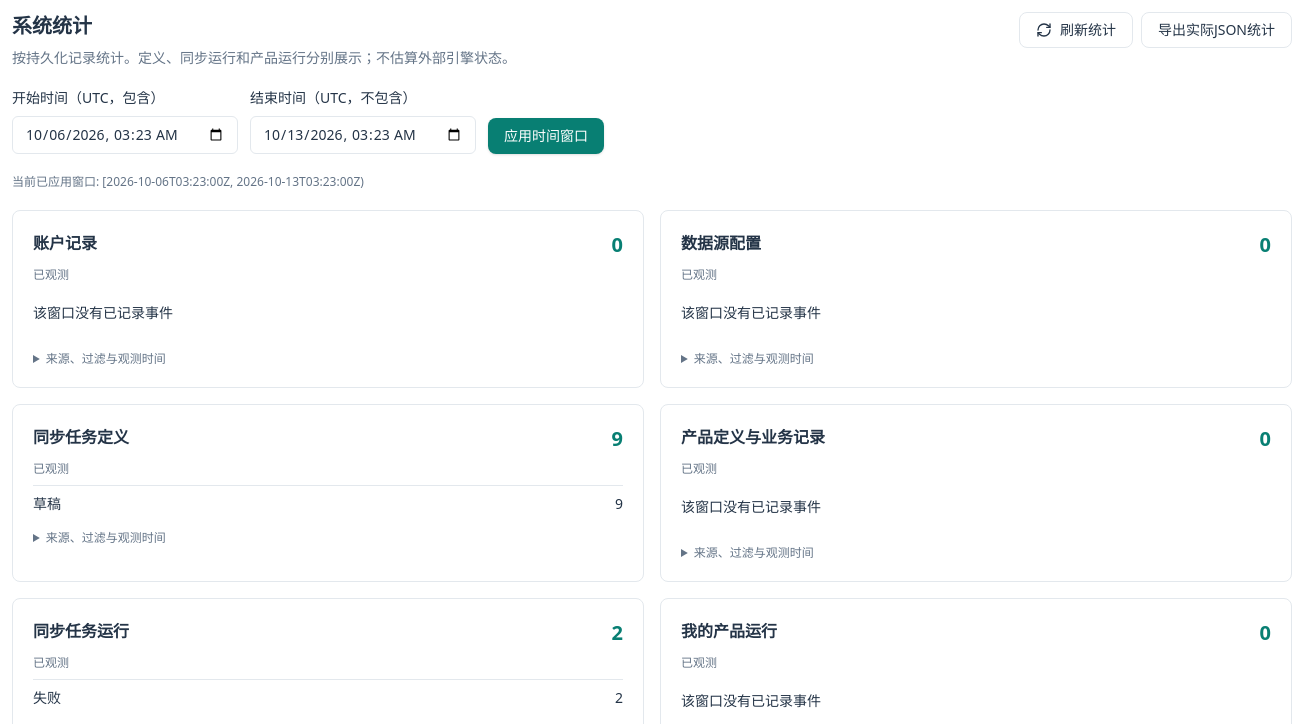
Test case: Persisted statistics and observed scope › will not export stale cached counts after the fresh export read is denied
Expected: the heading "同步任务定义" is shown, [33,425,129,453]
Click the button "导出实际JSON统计" at point(1216, 30), box [1141,12,1292,48]
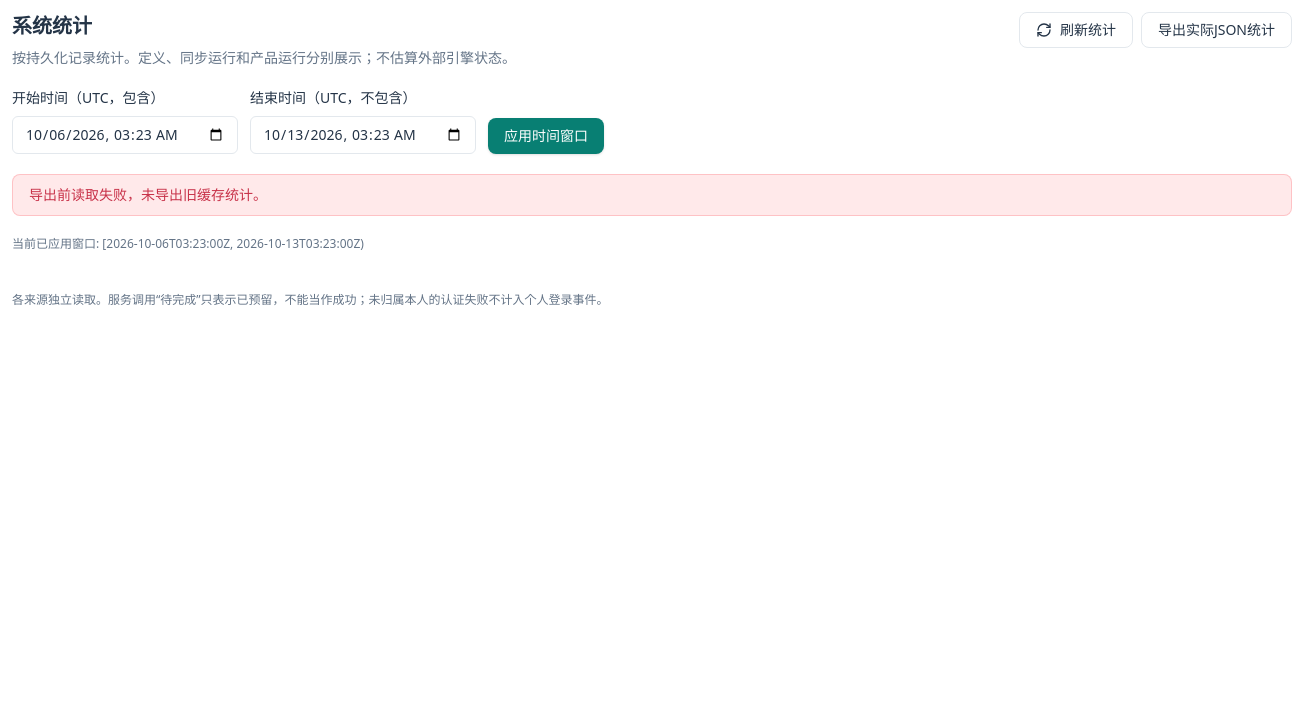
Result: the text "导出前读取失败，未导出旧缓存统计。" is shown at [29,185,267,204]
